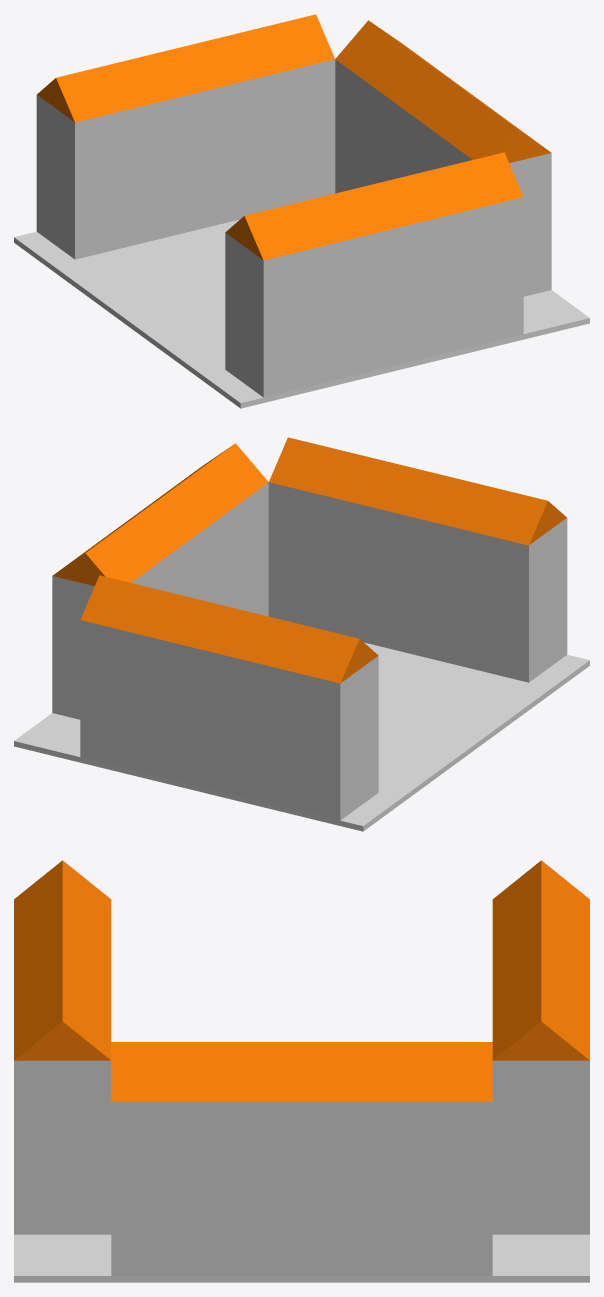
Rendered from Ilusao.obj.
The picture shows the model from 3 angles, top to bottom: view 1: azimuth 30°, elevation 25°; view 2: azimuth 150°, elevation 25°; view 3: azimuth 270°, elevation 25°; orthographic projection. The views are drawn at different scales.
Visible parts, largest first — view 1: Mesh17 Group5 Model, Mesh14 Component4 Group4 Model, Mesh2 Component1 Group1 Model, Mesh10 Component3 Group3 Model, Mesh6 Component2 Group2 Model, Mesh23 Component6 Group7 Model, Mesh19 Component5 Group6 Model, Mesh15 Component_1_7 Group4 Model, Mesh16 Component_1_8 Group4 Model, Mesh3 Component_1_1 Group1 Model, Mesh4 Component_1_2 Group1 Model, Mesh8 Component_1_4 Group2 Model (+7 smaller); view 2: Mesh17 Group5 Model, Mesh2 Component1 Group1 Model, Mesh14 Component4 Group4 Model, Mesh6 Component2 Group2 Model, Mesh10 Component3 Group3 Model, Mesh19 Component5 Group6 Model, Mesh23 Component6 Group7 Model, Mesh3 Component_1_1 Group1 Model, Mesh4 Component_1_2 Group1 Model, Mesh15 Component_1_7 Group4 Model, Mesh16 Component_1_8 Group4 Model, Mesh7 Component_1_3 Group2 Model (+7 smaller); view 3: Mesh19 Component5 Group6 Model, Mesh23 Component6 Group7 Model, Mesh6 Component2 Group2 Model, Mesh10 Component3 Group3 Model, Mesh17 Group5 Model, Mesh20 Component_1_9 Group6 Model, Mesh21 Component_1_10 Group6 Model, Mesh24 Component_1_11 Group7 Model, Mesh25 Component_1_12 Group7 Model, Mesh2 Component1 Group1 Model, Mesh14 Component4 Group4 Model, Mesh7 Component_1_3 Group2 Model (+3 smaller).
Part boxes in pixels (x1,y1,x2,y2): Mesh17 Group5 Model: (14, 219, 589, 408); Mesh14 Component4 Group4 Model: (225, 184, 393, 306); Mesh2 Component1 Group1 Model: (36, 46, 204, 168); Mesh10 Component3 Group3 Model: (374, 152, 523, 274); Mesh6 Component2 Group2 Model: (186, 14, 335, 136); Mesh23 Component6 Group7 Model: (410, 75, 551, 205); Mesh19 Component5 Group6 Model: (335, 20, 471, 159); Mesh15 Component_1_7 Group4 Model: (225, 320, 393, 397); Mesh16 Component_1_8 Group4 Model: (225, 274, 393, 351); Mesh3 Component_1_1 Group1 Model: (36, 182, 204, 259); Mesh4 Component_1_2 Group1 Model: (36, 136, 204, 213); Mesh8 Component_1_4 Group2 Model: (205, 105, 335, 182); Mesh17 Group5 Model: (14, 642, 589, 831); Mesh2 Component1 Group1 Model: (210, 607, 378, 729); Mesh14 Component4 Group4 Model: (399, 469, 567, 591); Mesh6 Component2 Group2 Model: (80, 575, 229, 697); Mesh10 Component3 Group3 Model: (268, 437, 417, 559); Mesh19 Component5 Group6 Model: (52, 498, 193, 628); Mesh23 Component6 Group7 Model: (132, 443, 268, 582); Mesh3 Component_1_1 Group1 Model: (210, 743, 378, 820); Mesh4 Component_1_2 Group1 Model: (210, 697, 378, 774); Mesh15 Component_1_7 Group4 Model: (399, 605, 567, 682); Mesh16 Component_1_8 Group4 Model: (399, 559, 567, 636); Mesh7 Component_1_3 Group2 Model: (80, 711, 210, 788); Mesh19 Component5 Group6 Model: (302, 1042, 492, 1159); Mesh23 Component6 Group7 Model: (111, 1042, 301, 1159); Mesh6 Component2 Group2 Model: (492, 941, 589, 1118); Mesh10 Component3 Group3 Model: (14, 941, 111, 1118); Mesh17 Group5 Model: (14, 1234, 589, 1282); Mesh20 Component_1_9 Group6 Model: (302, 1217, 492, 1275); Mesh21 Component_1_10 Group6 Model: (302, 1159, 492, 1217); Mesh24 Component_1_11 Group7 Model: (111, 1217, 301, 1275); Mesh25 Component_1_12 Group7 Model: (111, 1159, 301, 1217); Mesh2 Component1 Group1 Model: (492, 860, 589, 979); Mesh14 Component4 Group4 Model: (14, 860, 111, 979); Mesh7 Component_1_3 Group2 Model: (492, 1176, 589, 1234).
Size of the model in its own units: 12608 by 5981 by 14179.
